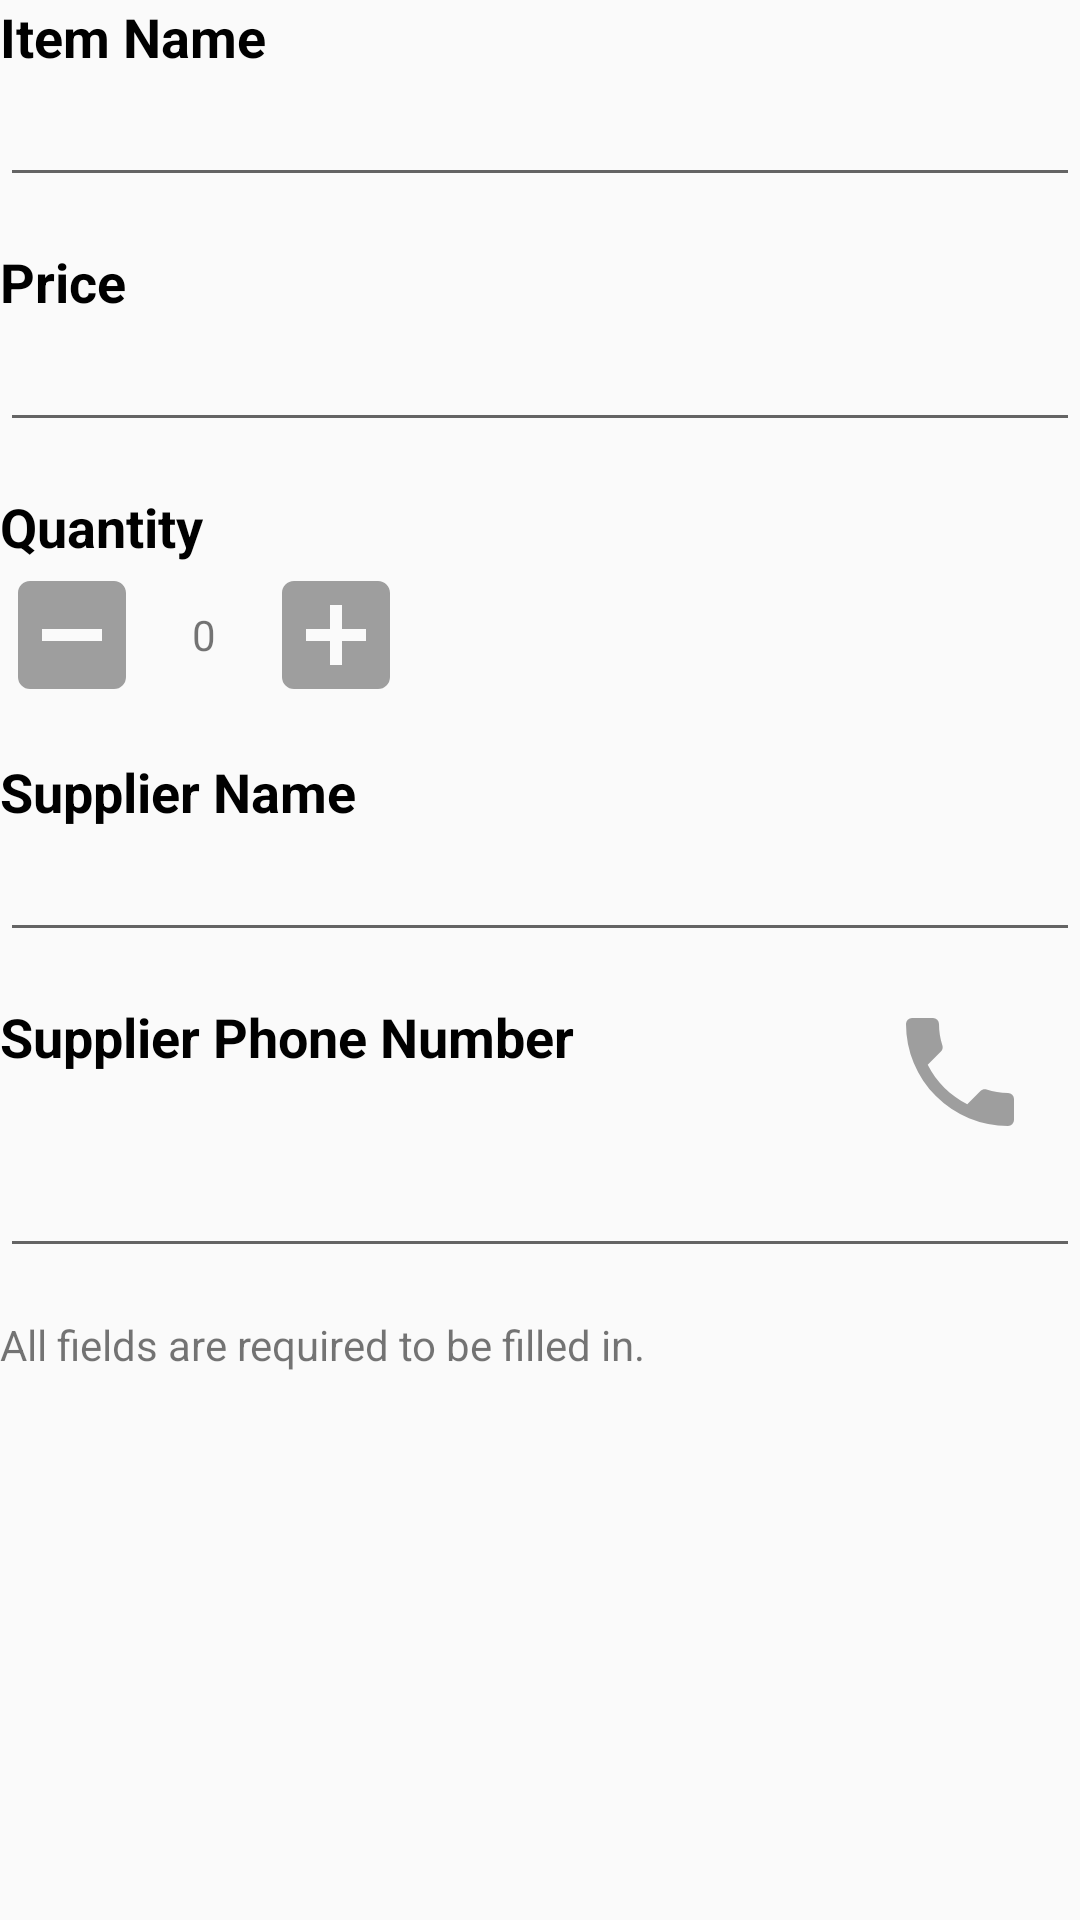

Named icons in this screenshot (1080x1920) and their centers, (x=x, y=y):
phone: (x=960, y=1072)
